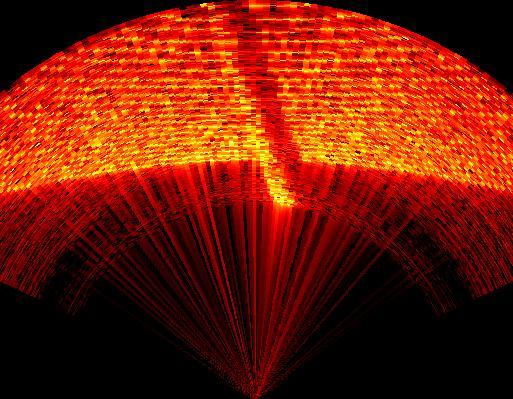pipe: (216, 1, 310, 192)
